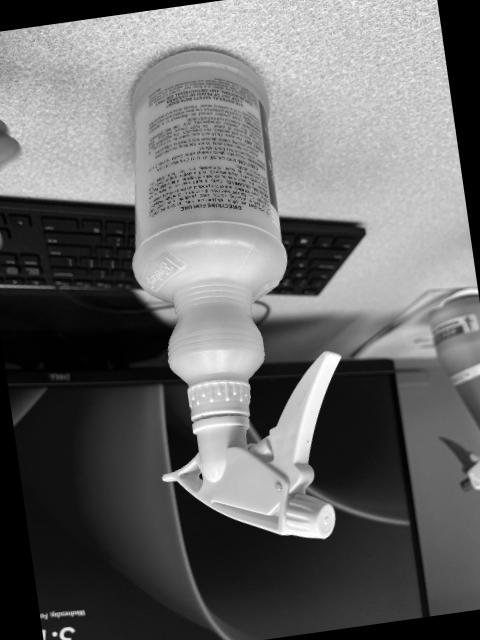StarSpray: (128, 43, 340, 538)
